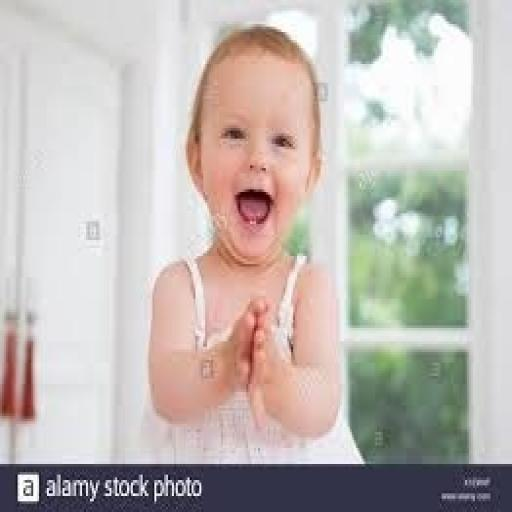clapping: (135, 21, 365, 464)
